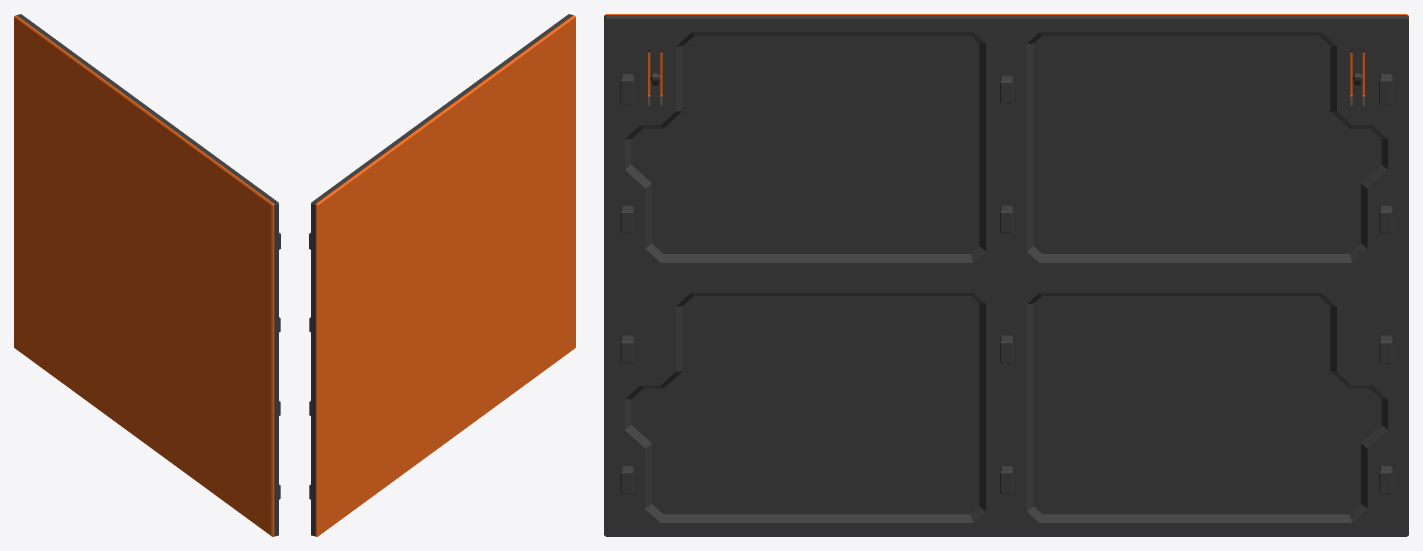
File: SideCover_165-2H.lib.glb
The picture shows the model from 3 angles, left to right: view 1: azimuth 30°, elevation 25°; view 2: azimuth 150°, elevation 25°; view 3: azimuth 270°, elevation 25°; orthographic projection. The views are drawn at different scales.
Visible parts, largest first — view 1: SideCover_165-2H; view 2: SideCover_165-2H; view 3: SideCover_165-2H.
Boxes of the visible parts, bbox=[...] form: SideCover_165-2H: bbox=[14, 14, 280, 536]; SideCover_165-2H: bbox=[309, 14, 575, 536]; SideCover_165-2H: bbox=[604, 14, 1408, 536].
Size of the model in its own units: 5.04 by 112 by 157.
